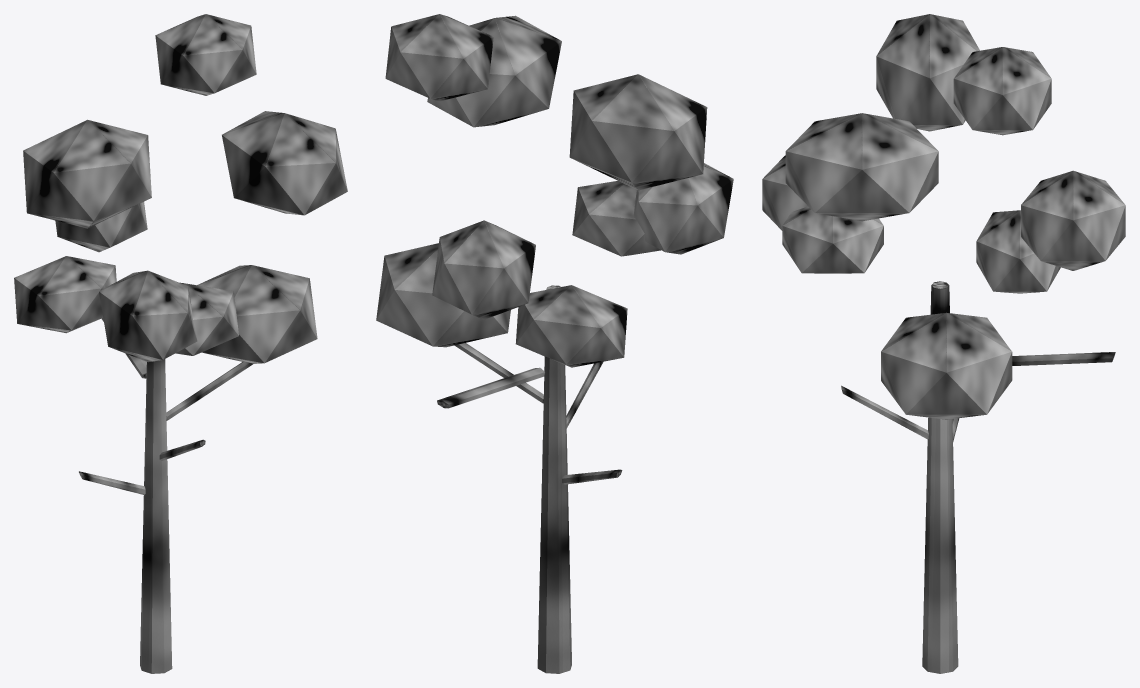
File: tree_birch_medium.glb
3 renders of one model, left to right at view 1: azimuth 30°, elevation 25°; view 2: azimuth 150°, elevation 25°; view 3: azimuth 270°, elevation 25°, orthographic. The views are drawn at different scales.
Visible parts, largest first — view 1: tree_birch_medium; view 2: tree_birch_medium; view 3: tree_birch_medium.
Boxes of the visible parts, <box> form: tree_birch_medium: <box>14,14,347,673</box>; tree_birch_medium: <box>376,14,733,673</box>; tree_birch_medium: <box>762,14,1125,673</box>.
Size of the model in its own units: 3.01 by 6.07 by 3.02.
1 material, 1 textured.
